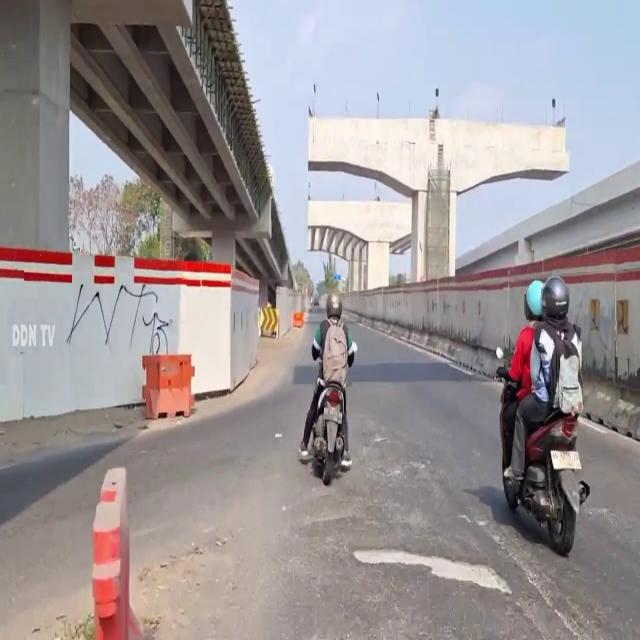WithHelmet: (503, 273, 585, 485), (298, 294, 358, 470), (495, 279, 545, 476)
